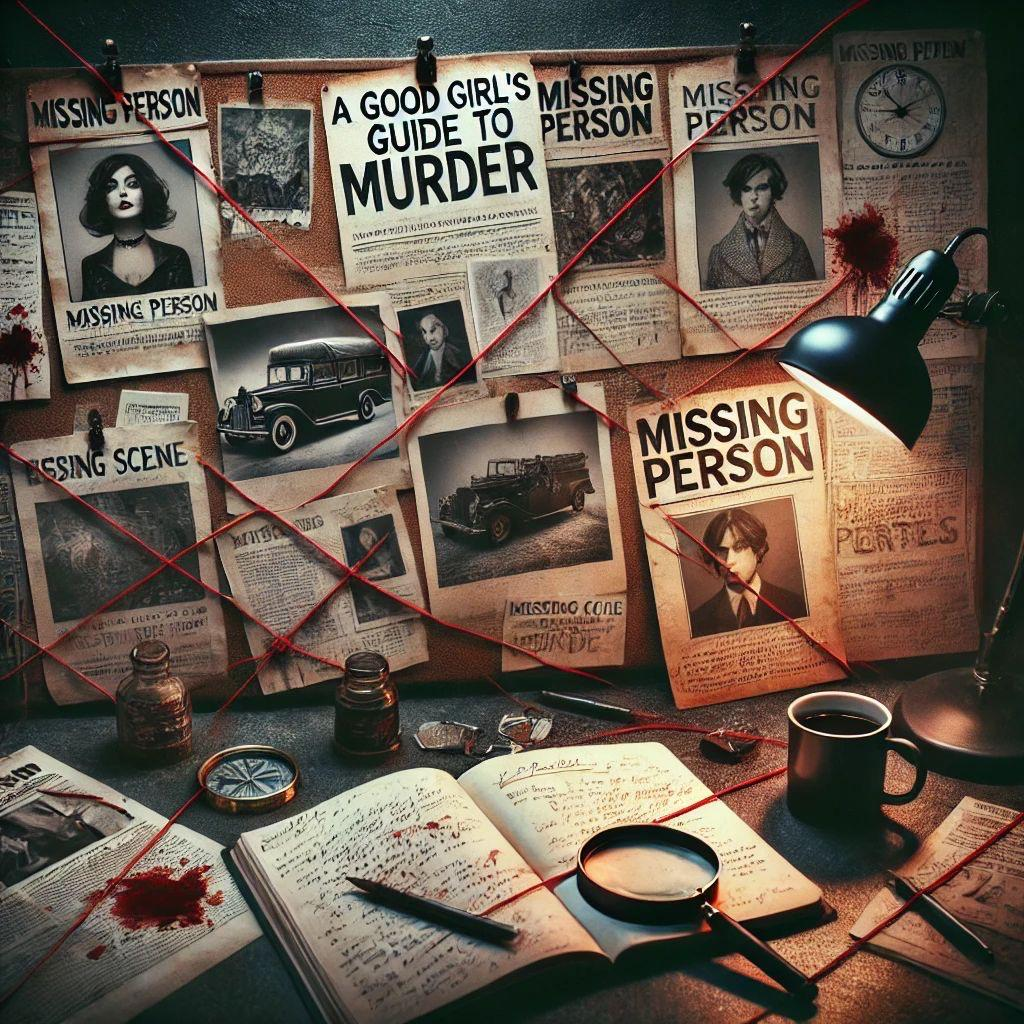blood_20.png: (783, 191, 961, 373), (47, 852, 277, 982), (379, 801, 521, 909), (1, 289, 65, 412)
